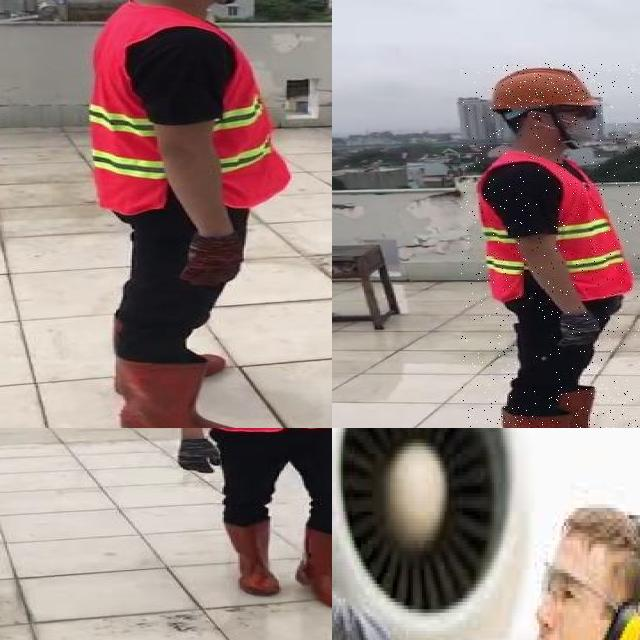Ear-protection: (593, 587, 640, 640)
boots: (116, 353, 267, 428), (219, 518, 286, 597), (554, 387, 638, 428), (295, 524, 332, 608), (494, 405, 622, 428)
glasses: (535, 553, 595, 612)
hand_glove: (184, 232, 242, 287), (174, 437, 222, 476)
head_helmet: (492, 63, 606, 111)
person: (66, 0, 311, 428), (461, 64, 640, 428), (332, 440, 640, 640), (156, 428, 332, 613)
vest: (91, 1, 290, 214), (469, 151, 636, 299)
